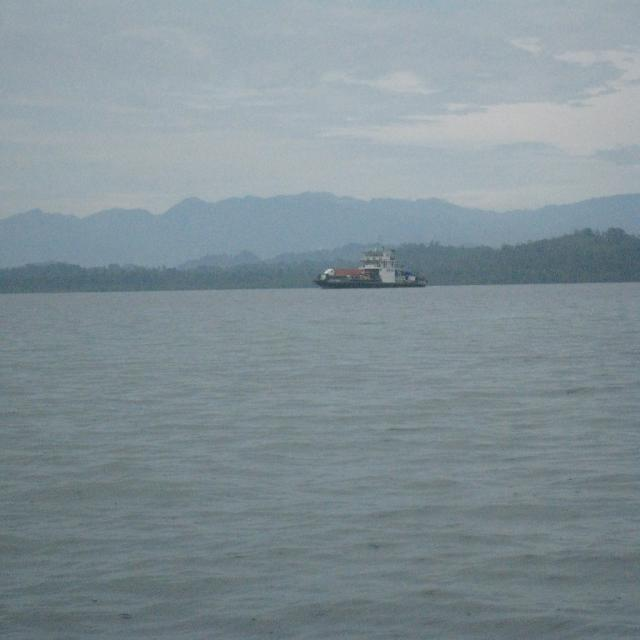fishing boat: (311, 243, 427, 291)
